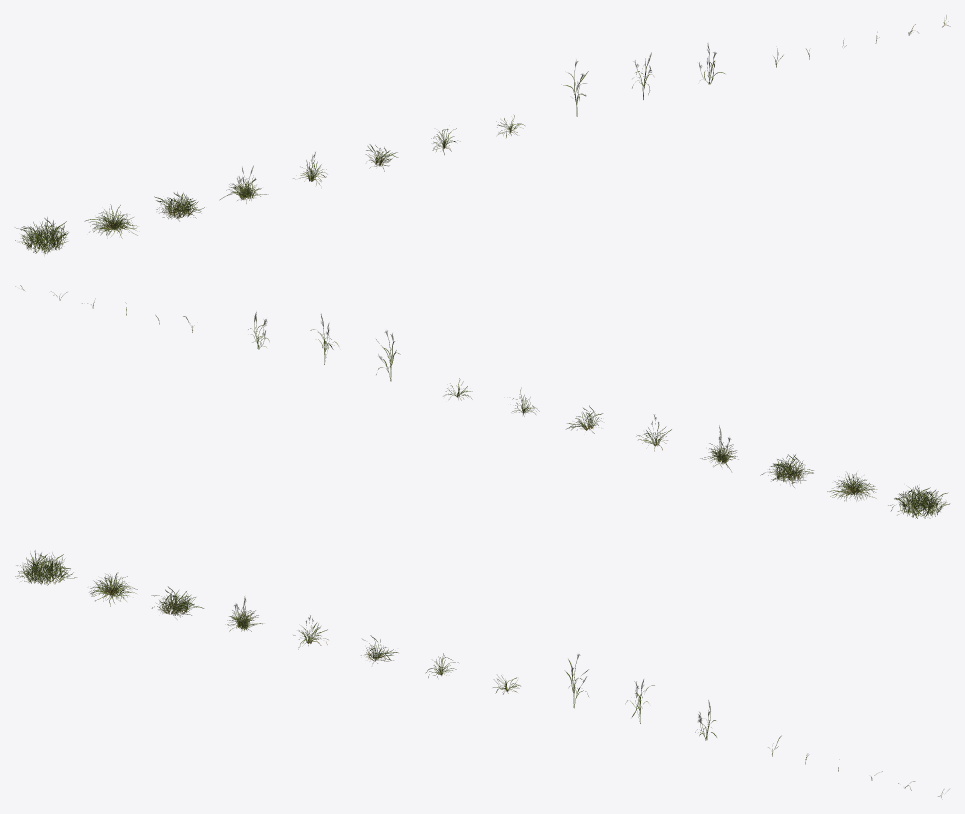
File: grass_clump_01.glb
The picture shows the model from 3 angles, top to bottom: view 1: azimuth 30°, elevation 25°; view 2: azimuth 150°, elevation 25°; view 3: azimuth 330°, elevation 25°; orthographic projection.
Parts seen in each view (by area): view 1: grass_medium_01_small_a_LOD0; view 2: grass_medium_01_small_a_LOD0; view 3: grass_medium_01_small_a_LOD0.
Part boxes in pixels (x1,y1,x2,y2): grass_medium_01_small_a_LOD0: (15, 15, 950, 255); grass_medium_01_small_a_LOD0: (15, 285, 949, 518); grass_medium_01_small_a_LOD0: (15, 550, 949, 797).
Size of the model in its own units: 5.6 by 0.3425 by 0.3267.
1 material, 1 textured.
